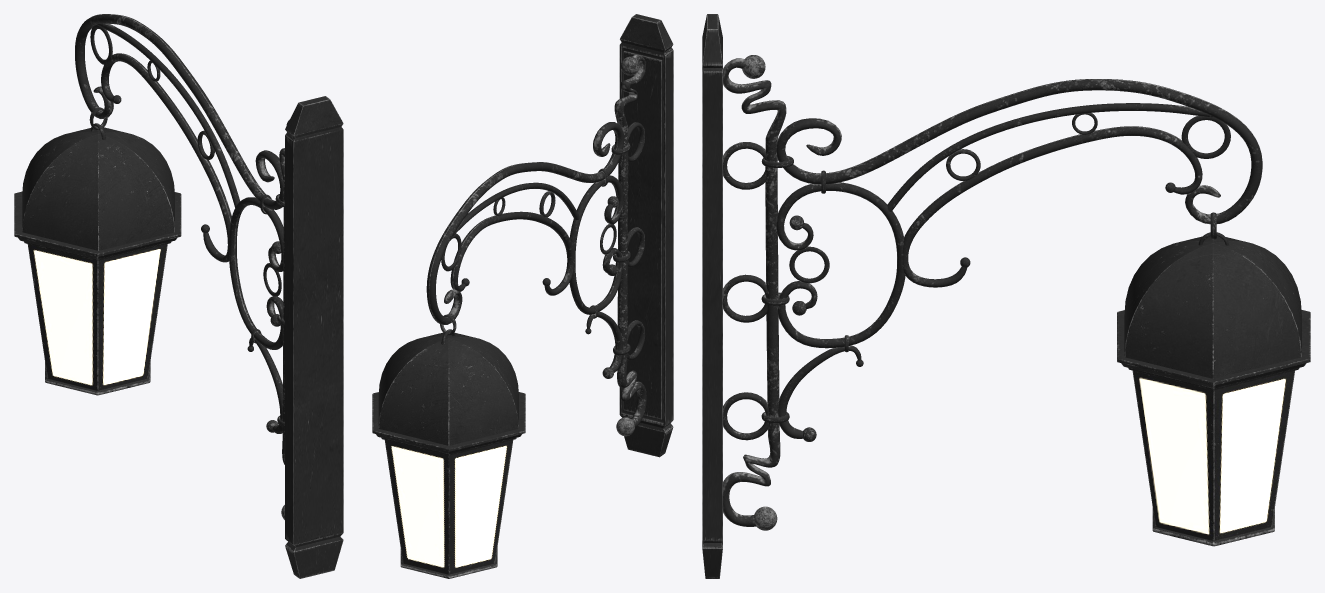
Rendered from victorian-street-lamp.glb.
3 views of the same model, side by side, from view 1: azimuth 30°, elevation 25°; view 2: azimuth 150°, elevation 25°; view 3: azimuth 270°, elevation 25° (orthographic). The views are drawn at different scales.
Parts seen in each view (by area): view 1: Lamp, WallPiece, MetalTubes; view 2: Lamp, WallPiece, MetalTubes; view 3: Lamp, MetalTubes, WallPiece.
Part boxes in pixels (left/top/right/bottom): Lamp: left=14, top=127, right=181, bottom=395; WallPiece: left=285, top=96, right=343, bottom=578; MetalTubes: left=75, top=14, right=289, bottom=519; Lamp: left=372, top=332, right=525, bottom=578; WallPiece: left=619, top=14, right=673, bottom=457; MetalTubes: left=426, top=54, right=646, bottom=436; Lamp: left=1117, top=236, right=1310, bottom=546; MetalTubes: left=723, top=55, right=1262, bottom=530; WallPiece: left=702, top=14, right=722, bottom=578.
Bounding box in the file's own units: 0.734 × 1.99 × 2.
3 materials, 3 textured.
